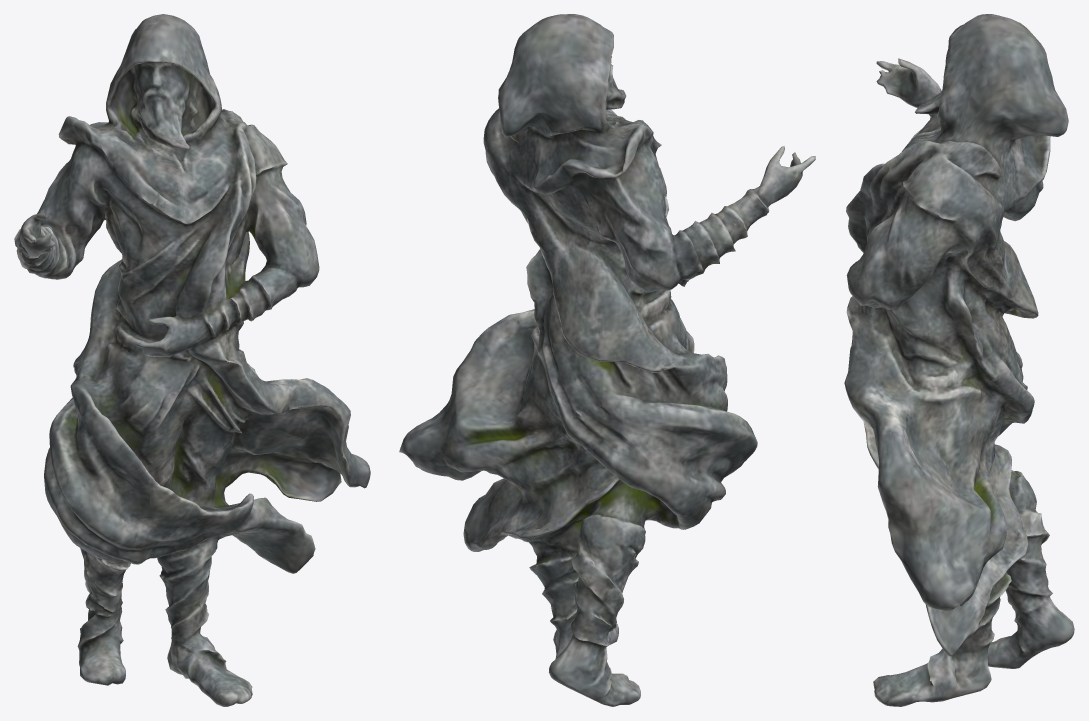
The model's file is SM_Statue_Hooded.glb.
3 renders of one model, left to right at view 1: azimuth 30°, elevation 25°; view 2: azimuth 150°, elevation 25°; view 3: azimuth 270°, elevation 25°, orthographic. The views are drawn at different scales.
Visible parts, largest first — view 1: SM_Statue_Hooded; view 2: SM_Statue_Hooded; view 3: SM_Statue_Hooded.
Part boxes in pixels (x1,y1,x2,y2): SM_Statue_Hooded: (14, 14, 370, 706); SM_Statue_Hooded: (399, 14, 815, 706); SM_Statue_Hooded: (844, 14, 1074, 706).
Size of the model in its own units: 1.19 by 2 by 0.6219.
Materials: 1 (1 with a texture image).
